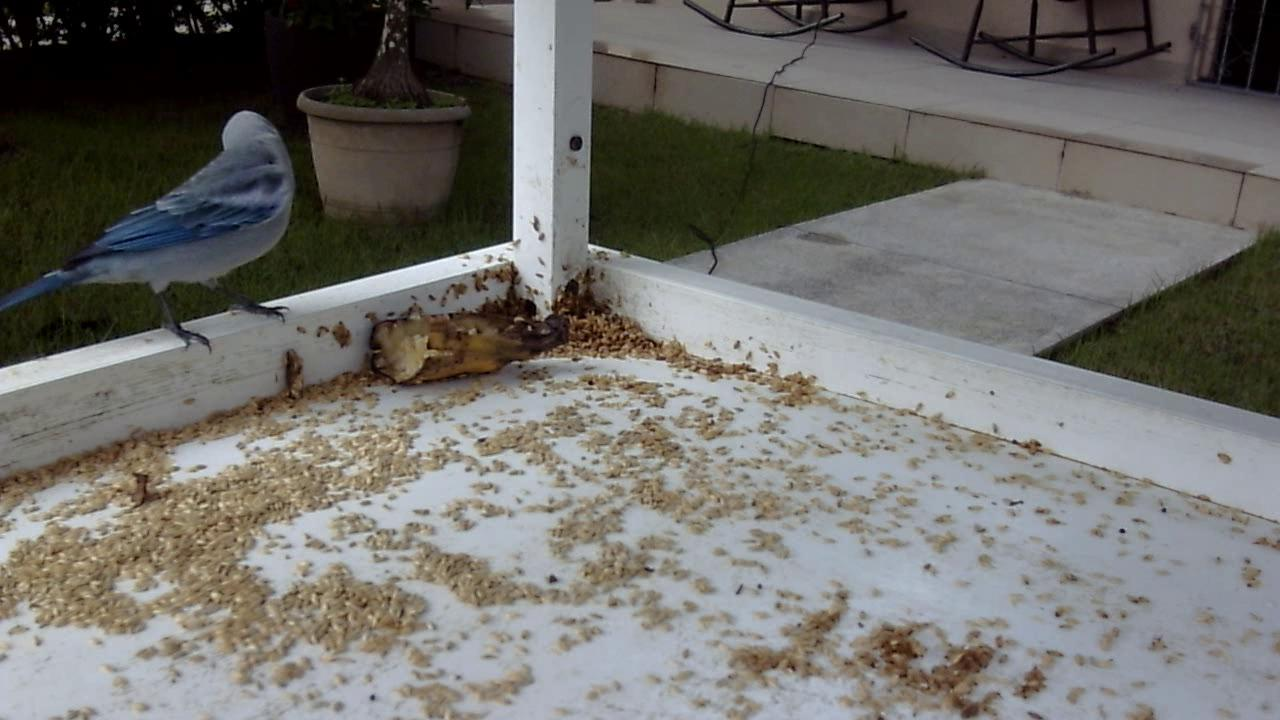sanhaco_da_amazonia: (1, 105, 301, 362)
